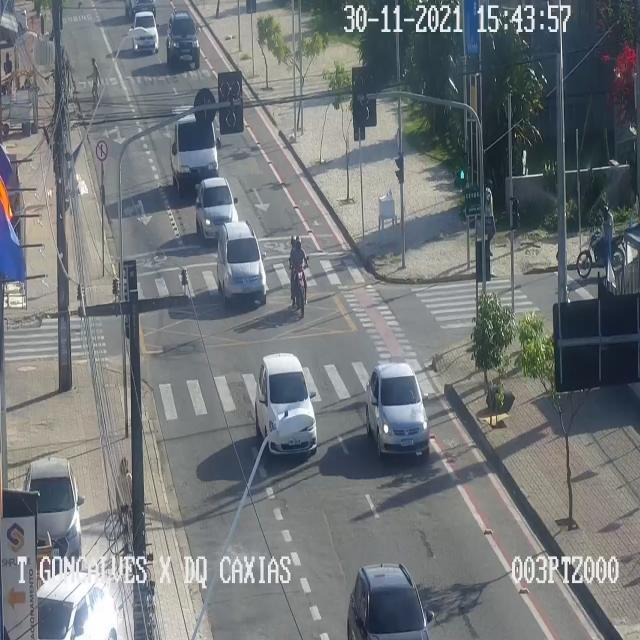Car: (24, 458, 86, 566), (346, 564, 435, 639), (255, 354, 317, 458), (37, 566, 121, 639), (365, 364, 427, 461), (170, 110, 220, 196), (217, 221, 267, 306), (194, 175, 236, 241), (164, 14, 202, 68), (130, 10, 159, 53), (121, 0, 164, 16)
Motorcycle: (578, 204, 624, 276), (288, 236, 312, 316)
